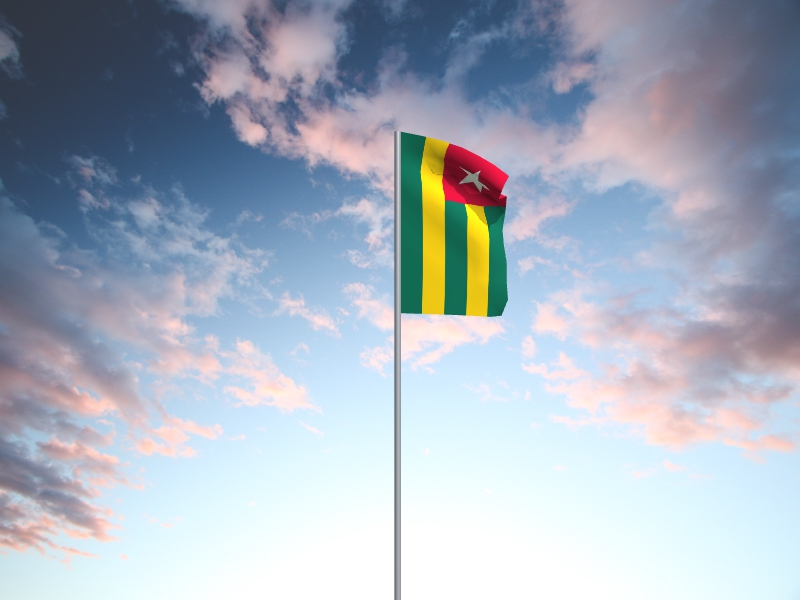tg: (401, 133, 511, 318)
